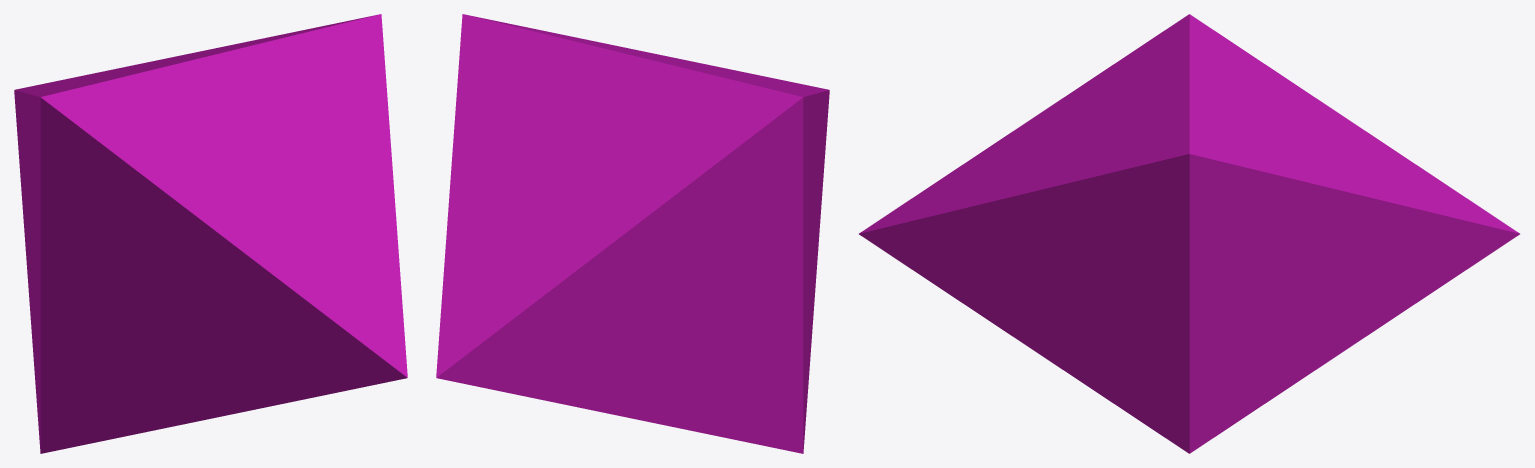
3 renders of one model, left to right at view 1: azimuth 30°, elevation 25°; view 2: azimuth 150°, elevation 25°; view 3: azimuth 270°, elevation 25°, orthographic. The views are drawn at different scales.
Parts seen in each view (by area): view 1: Cube.001; view 2: Cube.001; view 3: Cube.001.
Part boxes in pixels (bbox=[...]): Cube.001: bbox=[14, 14, 407, 453]; Cube.001: bbox=[436, 14, 829, 453]; Cube.001: bbox=[859, 14, 1519, 453].
Size of the model in its own units: 0.04 by 0.04 by 0.08.
